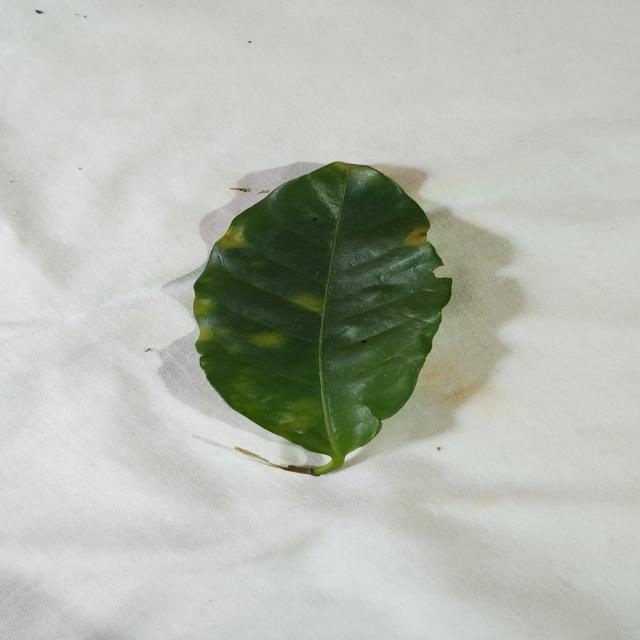Enfermedad-Roya: (191, 162, 455, 474)
